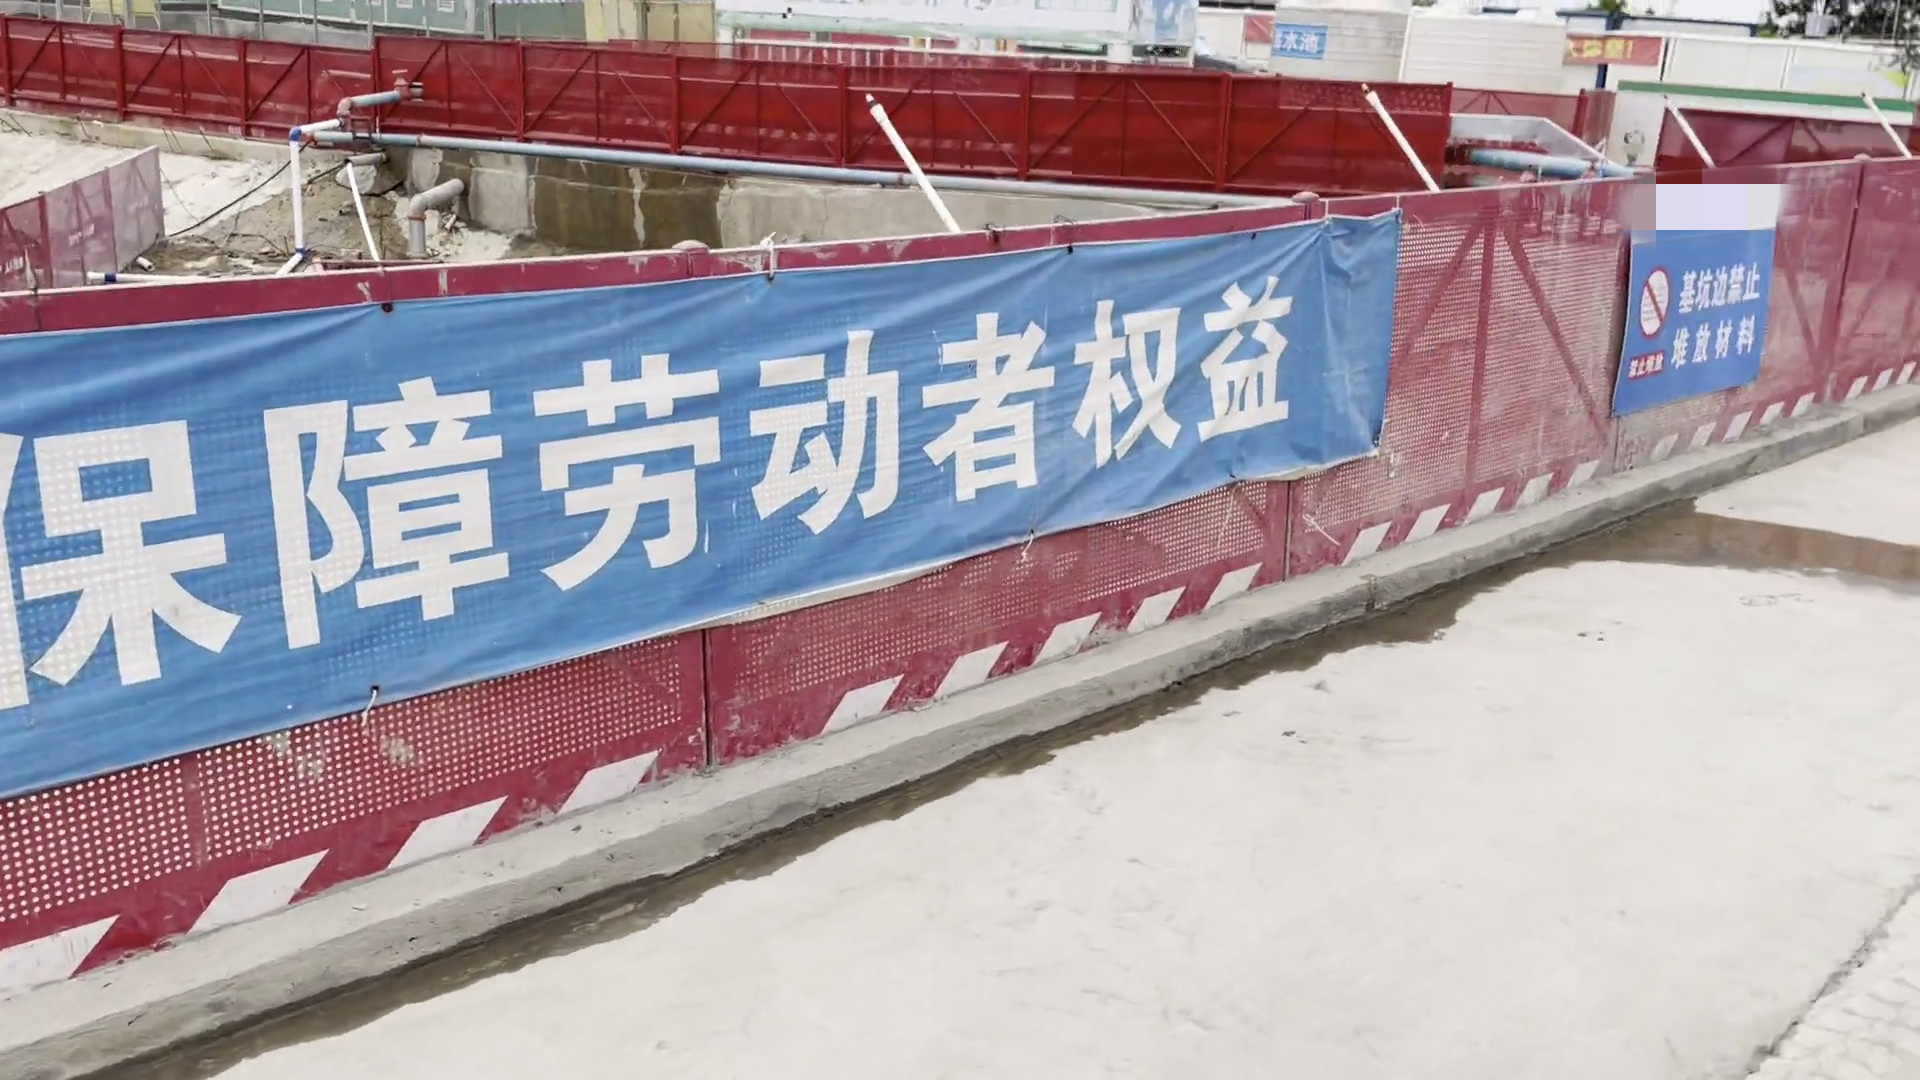fence: (1, 171, 1920, 1069), (1, 40, 1461, 171)
slogan: (1, 231, 1400, 711), (1627, 185, 1779, 400)
